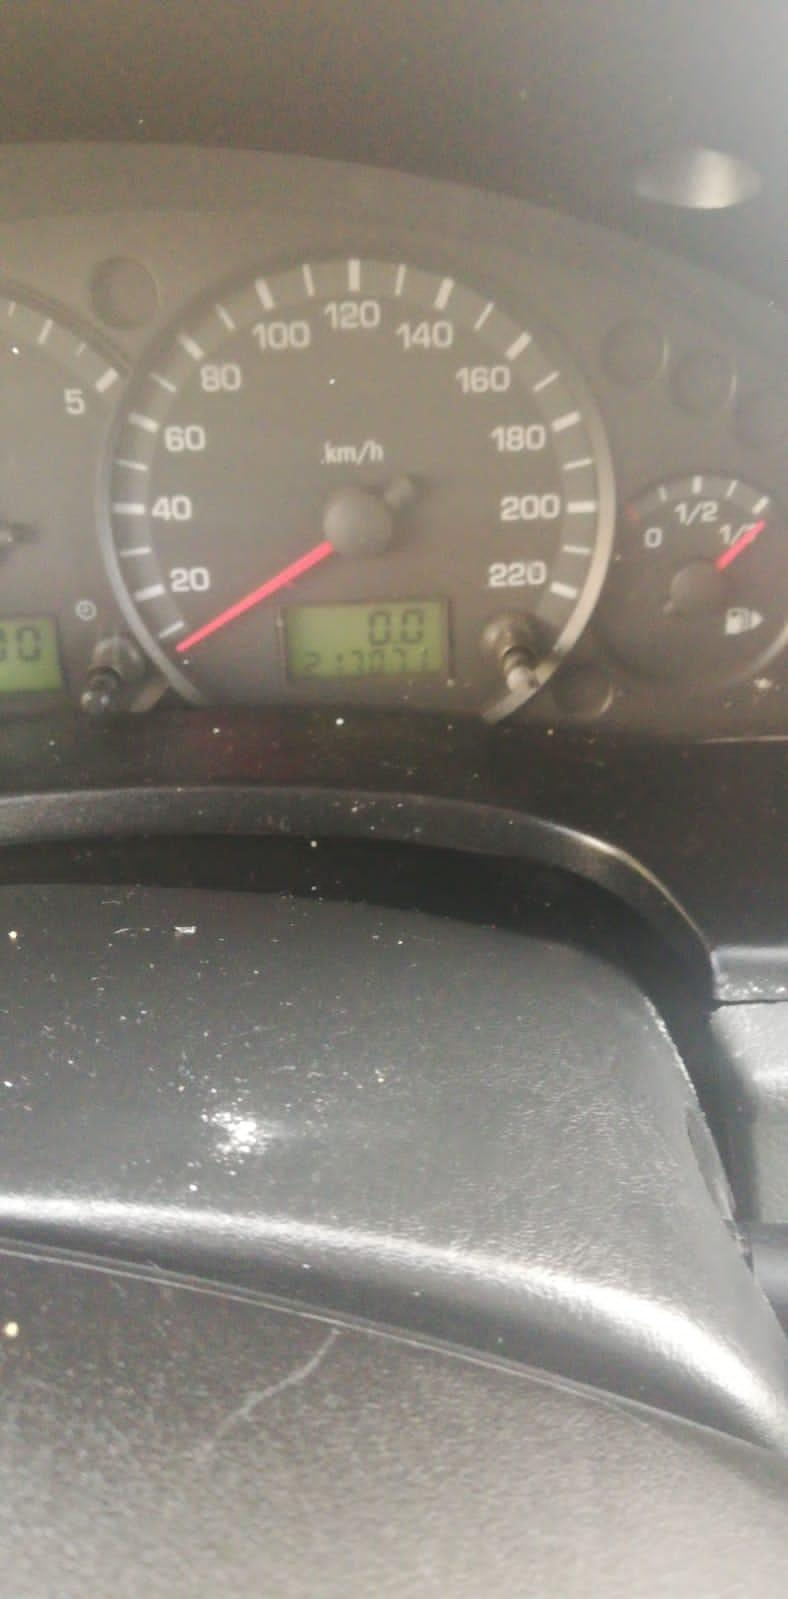0: (398, 606, 424, 644), (367, 608, 391, 644), (367, 646, 387, 673)
1: (419, 646, 430, 669), (333, 652, 344, 677)
2: (301, 650, 321, 679)
7: (348, 647, 364, 675), (390, 646, 407, 674)
odometer: (274, 596, 454, 688)
